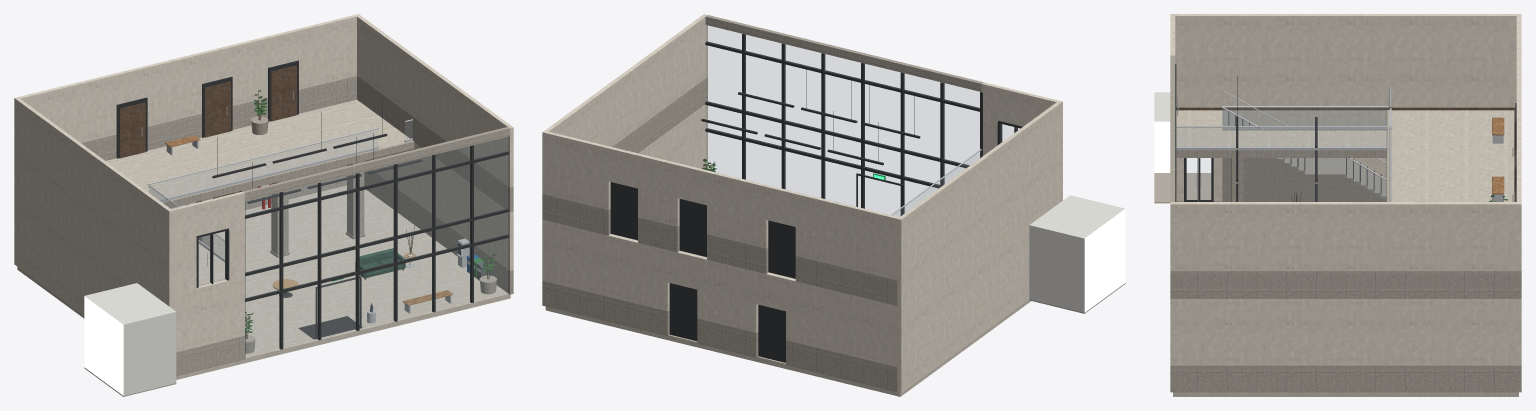
The model's file is wancai_interior.glb.
3 views of the same model, side by side, from view 1: azimuth 30°, elevation 25°; view 2: azimuth 150°, elevation 25°; view 3: azimuth 270°, elevation 25° (orthographic). The views are drawn at different scales.
Visible parts, largest first — view 1: L0_wc_glass, L0_floor, L1_WALL_W, L1_wc_terrazzo_lm1.3, L1_WALL_E, L0_WALL_Sfacade_wc_frame, L0_WALL_W_0, L0_wc_lawlib_white, L0_WALL_E, L0_wc_granite, L1_wc_glass, L1_WALL_Nu_0 (+29 smaller); view 2: L0_wc_glass, L1_WALL_W, L0_WALL_W_0, L1_WALL_E, L0_WALL_Nu_2, L0_WALL_Sfacade_wc_frame, L0_WALL_Nu_0, L1_WALL_Nu_0, L0_wc_lawlib_white, L1_WALL_Ndoor_wc_frame, L1_WALL_Nu_3, L1_WALL_Nu_1 (+24 smaller); view 3: L1_WALL_W, L1_WALL_E, L0_WALL_E, L1_wc_terrazzo_lm1.3, L0_WALL_Eb, L1_WALL_Eb, L1_wc_glass, L0_wc_step, L0_WALL_W_0, L0_wc_glass, L1_wc_steel, L1_wc_granite (+10 smaller).
Part boxes in pixels (left/top/right/bottom): L0_wc_glass: left=171, top=137, right=507, bottom=356; L0_floor: left=17, top=185, right=510, bottom=379; L1_WALL_W: left=14, top=97, right=173, bottom=295; L1_wc_terrazzo_lm1.3: left=106, top=99, right=409, bottom=285; L1_WALL_E: left=355, top=14, right=513, bottom=187; L0_WALL_Sfacade_wc_frame: left=245, top=145, right=508, bottom=357; L0_WALL_W_0: left=14, top=182, right=150, bottom=315; L0_wc_lawlib_white: left=84, top=283, right=176, bottom=395; L0_WALL_E: left=364, top=142, right=513, bottom=270; L0_wc_granite: left=195, top=127, right=509, bottom=353; L1_wc_glass: left=148, top=121, right=411, bottom=285; L1_WALL_Nu_0: left=18, top=73, right=117, bottom=142; L0_wc_glass: left=706, top=25, right=979, bottom=216; L1_WALL_W: left=897, top=100, right=1062, bottom=306; L0_WALL_W_0: left=897, top=203, right=1042, bottom=392; L1_WALL_E: left=542, top=14, right=707, bottom=194; L0_WALL_Nu_2: left=546, top=220, right=669, bottom=311; L0_WALL_Sfacade_wc_frame: left=705, top=34, right=982, bottom=215; L0_WALL_Nu_0: left=786, top=277, right=897, bottom=367; L1_WALL_Nu_0: left=795, top=192, right=899, bottom=280; L0_wc_lawlib_white: left=1029, top=195, right=1124, bottom=312; L1_WALL_Ndoor_wc_frame: left=610, top=182, right=795, bottom=278; L1_WALL_Nu_3: left=546, top=131, right=610, bottom=210; L1_WALL_Nu_1: left=707, top=171, right=768, bottom=248; L1_WALL_W: left=1170, top=14, right=1521, bottom=110; L1_WALL_E: left=1170, top=202, right=1521, bottom=271; L0_WALL_E: left=1170, top=299, right=1521, bottom=365; L1_wc_terrazzo_lm1.3: left=1176, top=110, right=1514, bottom=201; L0_WALL_Eb: left=1170, top=365, right=1521, bottom=392; L1_WALL_Eb: left=1170, top=271, right=1521, bottom=298; L1_wc_glass: left=1177, top=108, right=1387, bottom=146; L0_wc_step: left=1222, top=110, right=1386, bottom=201; L0_WALL_W_0: left=1213, top=111, right=1386, bottom=201; L0_wc_glass: left=1187, top=109, right=1385, bottom=199; L1_wc_steel: left=1176, top=86, right=1503, bottom=201; L1_wc_granite: left=1176, top=110, right=1388, bottom=201.
Bounding box in the file's own units: 21 × 8.65 × 14.85.
27 materials, 11 textured.
